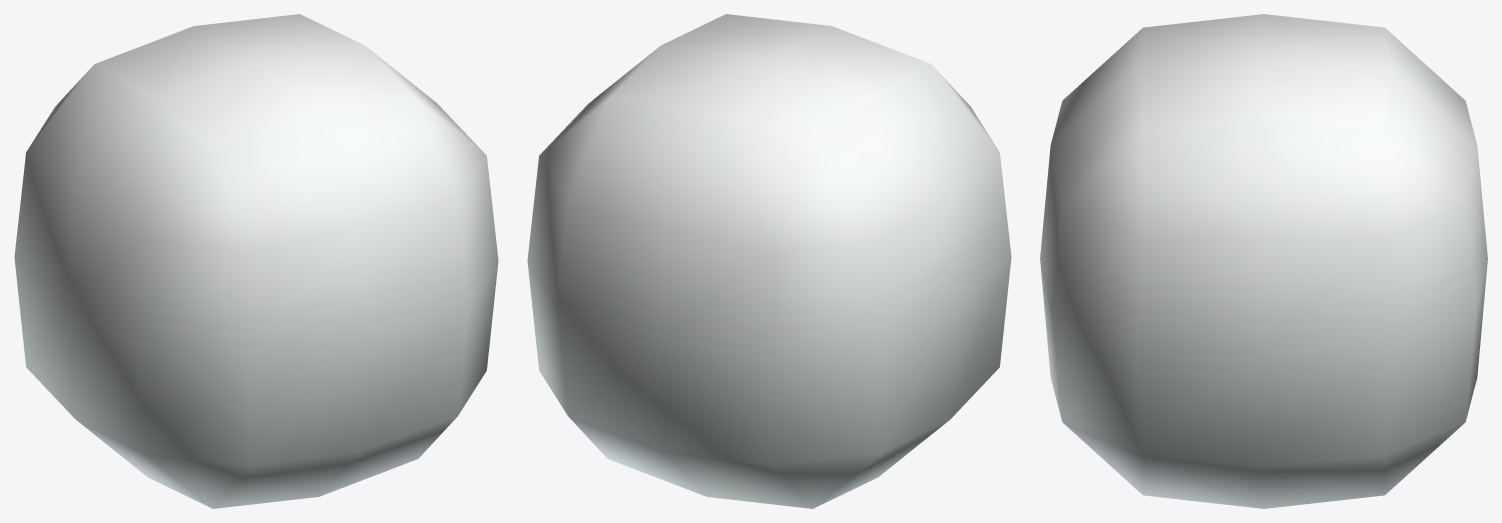
File: ball_medium_small_white.fbx
3 renders of one model, left to right at view 1: azimuth 30°, elevation 25°; view 2: azimuth 150°, elevation 25°; view 3: azimuth 270°, elevation 25°, orthographic. The views are drawn at different scales.
Visible parts, largest first — view 1: ball_medium_small_white; view 2: ball_medium_small_white; view 3: ball_medium_small_white.
Part boxes in pixels (box(x1,y1,x2,y2)): ball_medium_small_white: box(14, 14, 498, 508); ball_medium_small_white: box(527, 14, 1011, 508); ball_medium_small_white: box(1040, 14, 1487, 508).
Size of the model in its own units: 55.97 by 56.34 by 55.97.
1 material, 1 textured.
